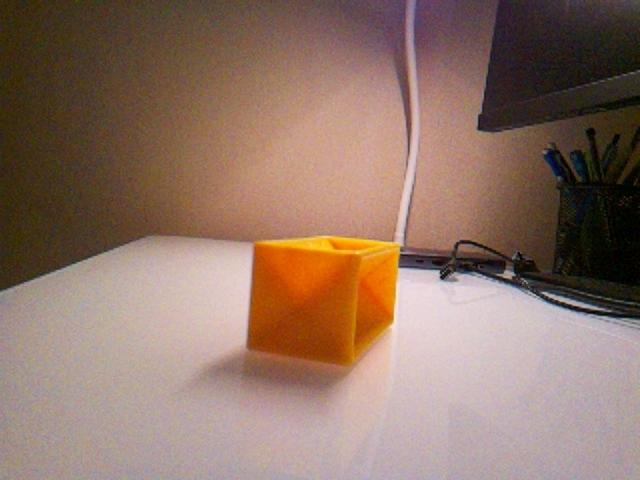yellow: (246, 234, 402, 367)
